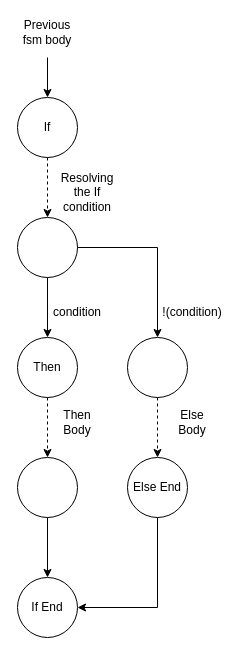
Some shapes in this 245 by 655 pixel diagram are drawn without their labels. The shapes that lost their labels are listed below. From the top down, each one's box as (x1, y1, x2, y2) in pixels, then its label:
(126, 336, 188, 398): Else
(16, 456, 78, 518): Then End
